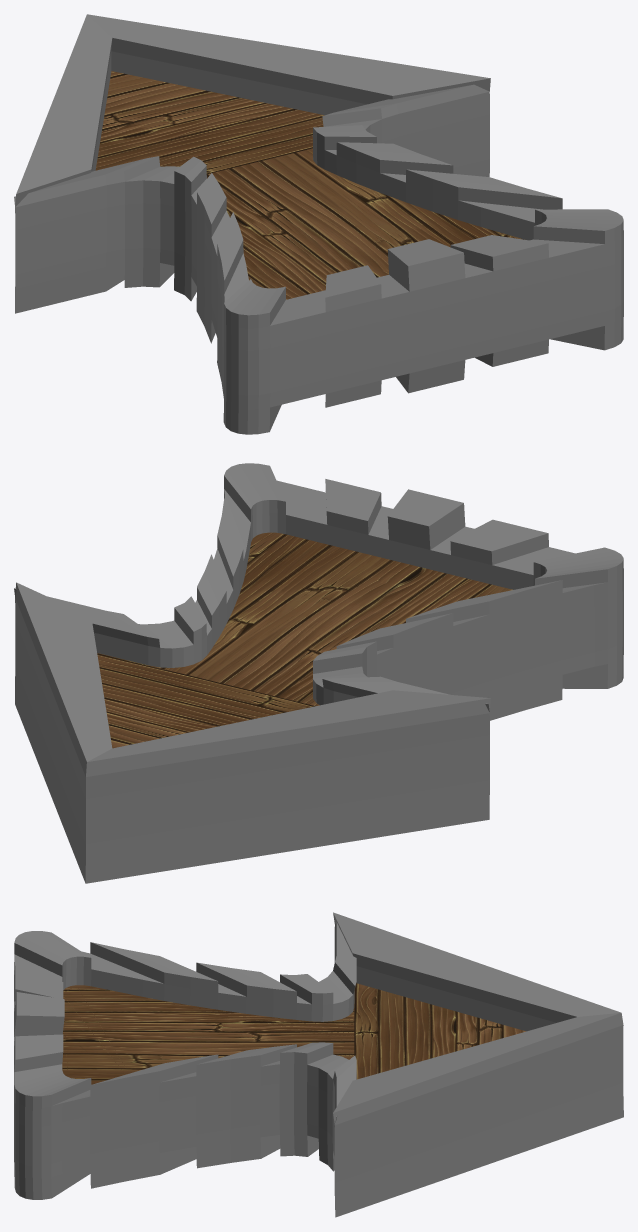
File: arrow.glb
3 views of the same model, one above another, from view 1: azimuth 30°, elevation 25°; view 2: azimuth 150°, elevation 25°; view 3: azimuth 270°, elevation 25° (orthographic). The views are drawn at different scales.
Visible parts, largest first — view 1: arrow; view 2: arrow; view 3: arrow.
Part boxes in pixels (x1,y1,x2,y2): arrow: (14,14,623,434); arrow: (14,463,623,883); arrow: (14,912,623,1217).
Bounding box in the file's own units: 0.8193 × 0.2162 × 1.05.
2 materials, 1 textured.
